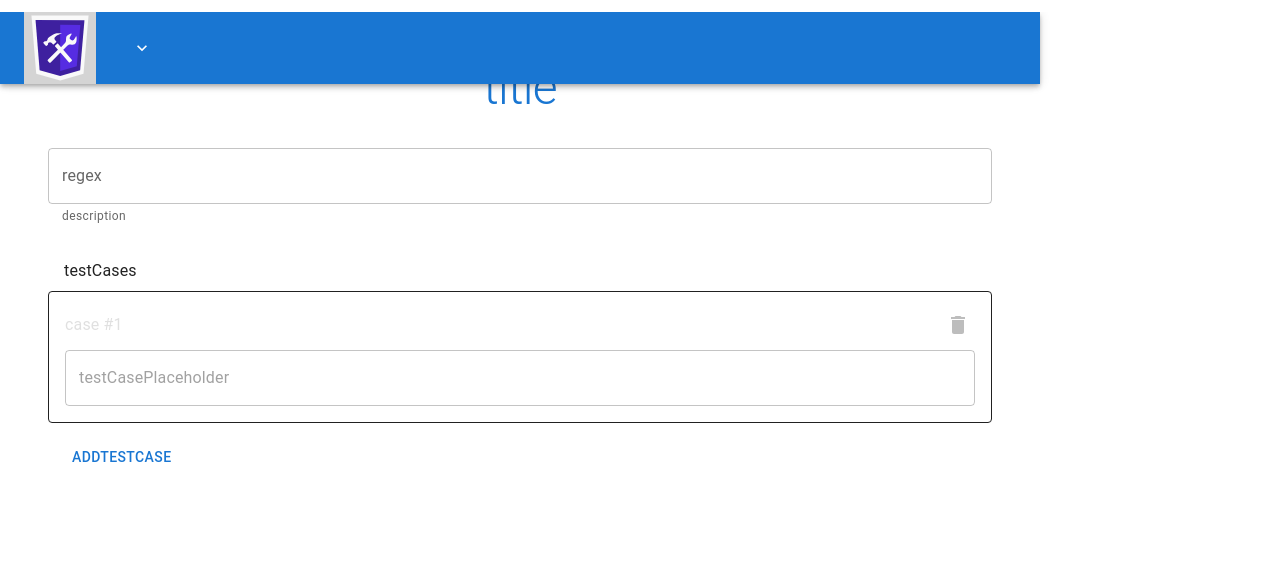
Test: Regex Tester › can add and remove test cases
Expected: the number of elements named "testCaseContent" is 1, [65,350,975,406]
Click the button "addTestCase".
click(122, 457)  # box [64,439,180,475]
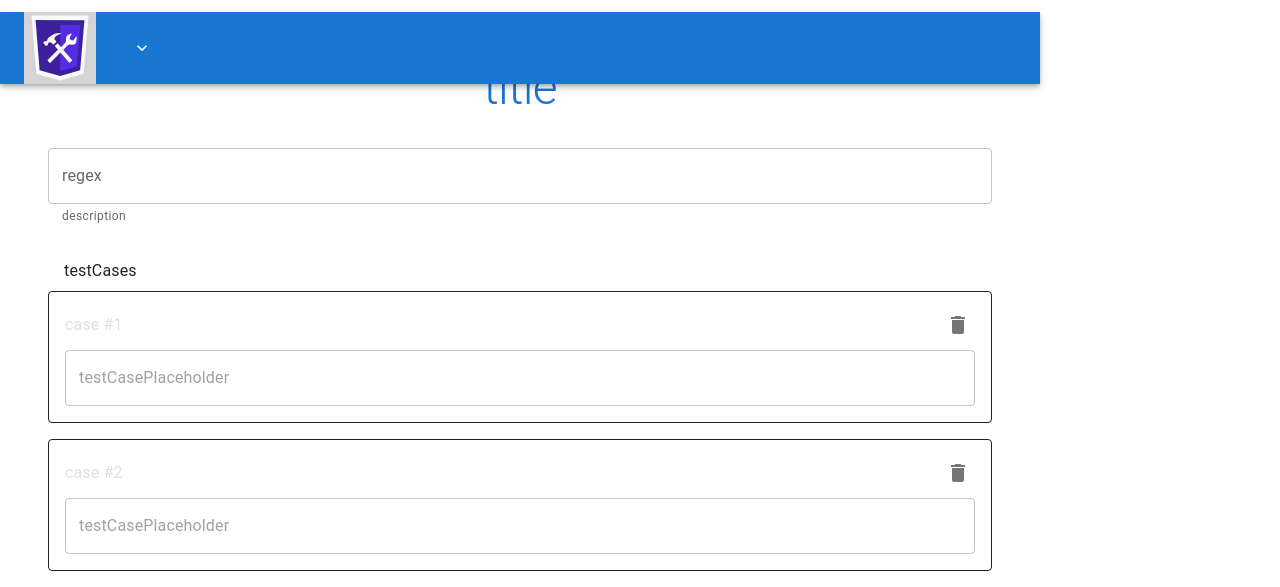
Result: the number of elements named "testCaseContent" is 2 at [65,350,975,406]; [65,498,975,554]
Click the 1st button named "deleteTestCase".
click(958, 325)  # box [941,308,975,342]
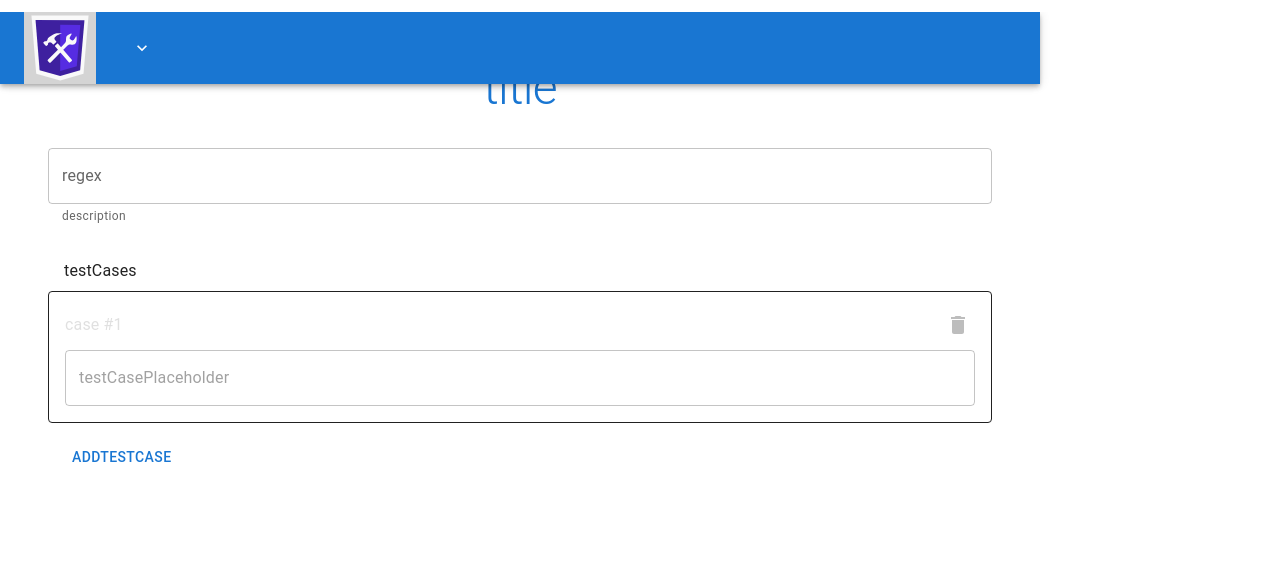
Result: the number of elements named "testCaseContent" is 1 at [65,350,975,406]
